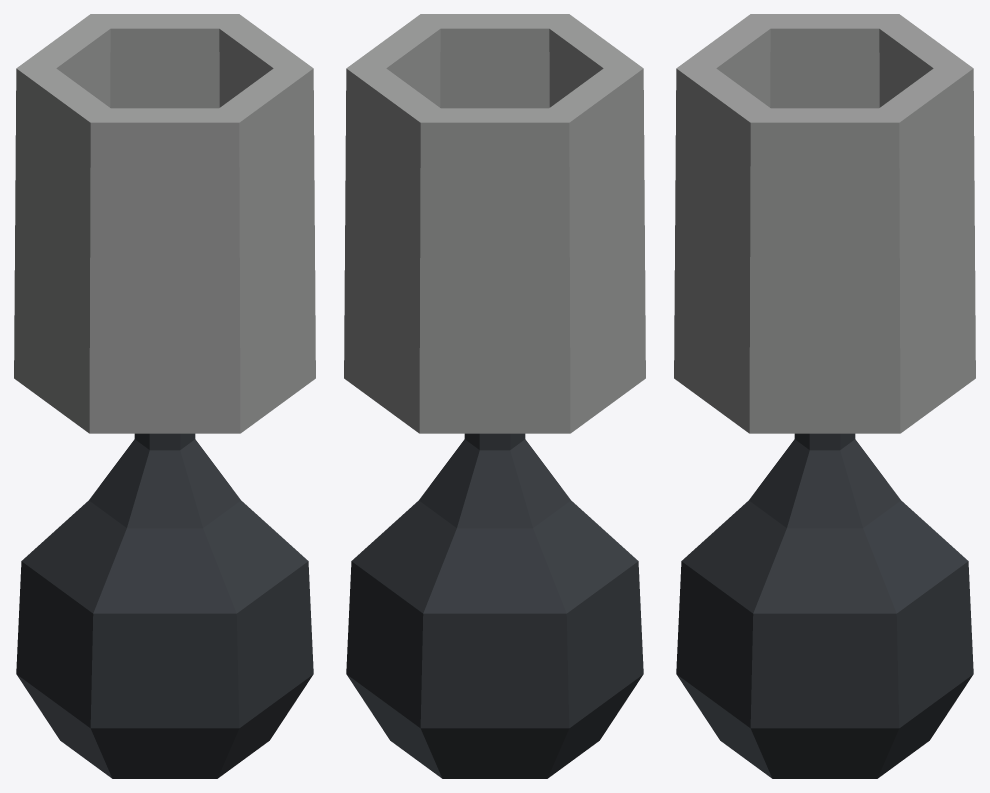
Rendered from SM_Prop_DeskLamp_07_broken.obj.
3 renders of one model, left to right at view 1: azimuth 30°, elevation 25°; view 2: azimuth 150°, elevation 25°; view 3: azimuth 270°, elevation 25°, orthographic.
Visible parts, largest first — view 1: SM_Prop_DeskLamp_07_broken_M_PolygonOffice_01_ANoGlow; view 2: SM_Prop_DeskLamp_07_broken_M_PolygonOffice_01_ANoGlow; view 3: SM_Prop_DeskLamp_07_broken_M_PolygonOffice_01_ANoGlow.
Part boxes in pixels (x1=…): SM_Prop_DeskLamp_07_broken_M_PolygonOffice_01_ANoGlow: x1=14, y1=14, x2=315, y2=778; SM_Prop_DeskLamp_07_broken_M_PolygonOffice_01_ANoGlow: x1=344, y1=14, x2=645, y2=778; SM_Prop_DeskLamp_07_broken_M_PolygonOffice_01_ANoGlow: x1=674, y1=14, x2=975, y2=778.
Size of the model in its own units: 0.1711 by 0.4853 by 0.1976.
1 material, 1 textured.
